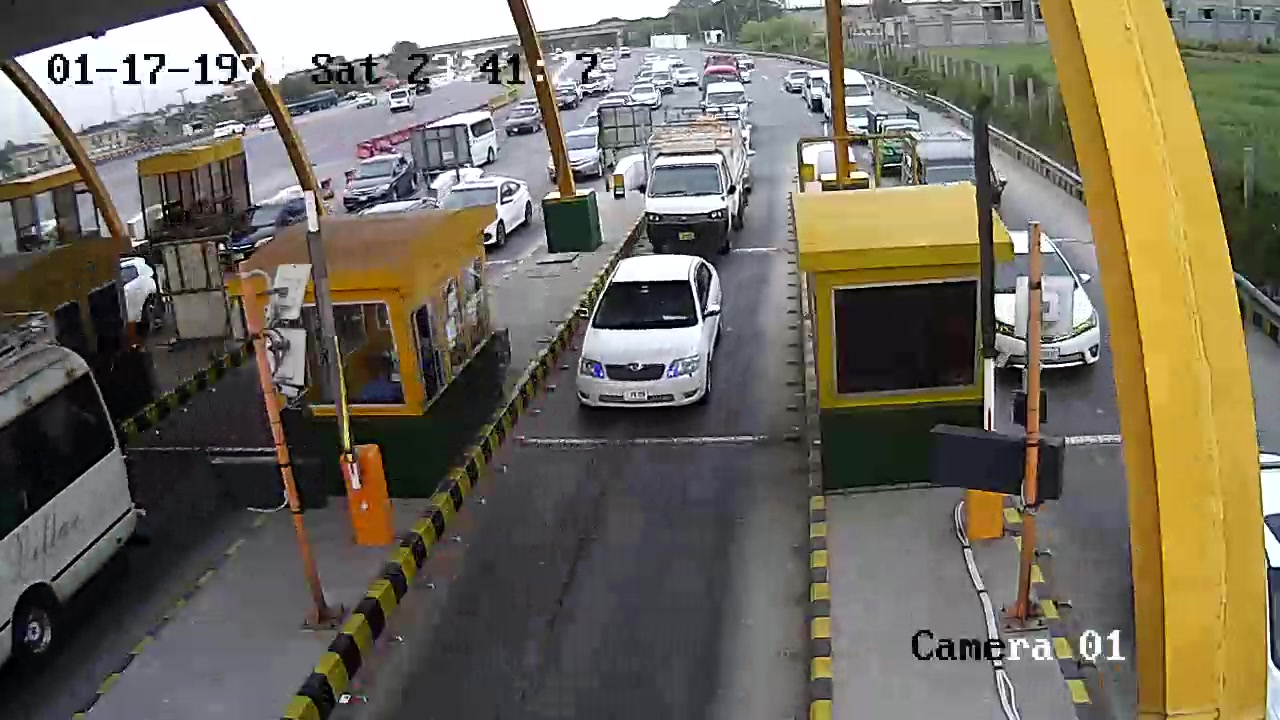F1: (571, 244, 745, 425)
